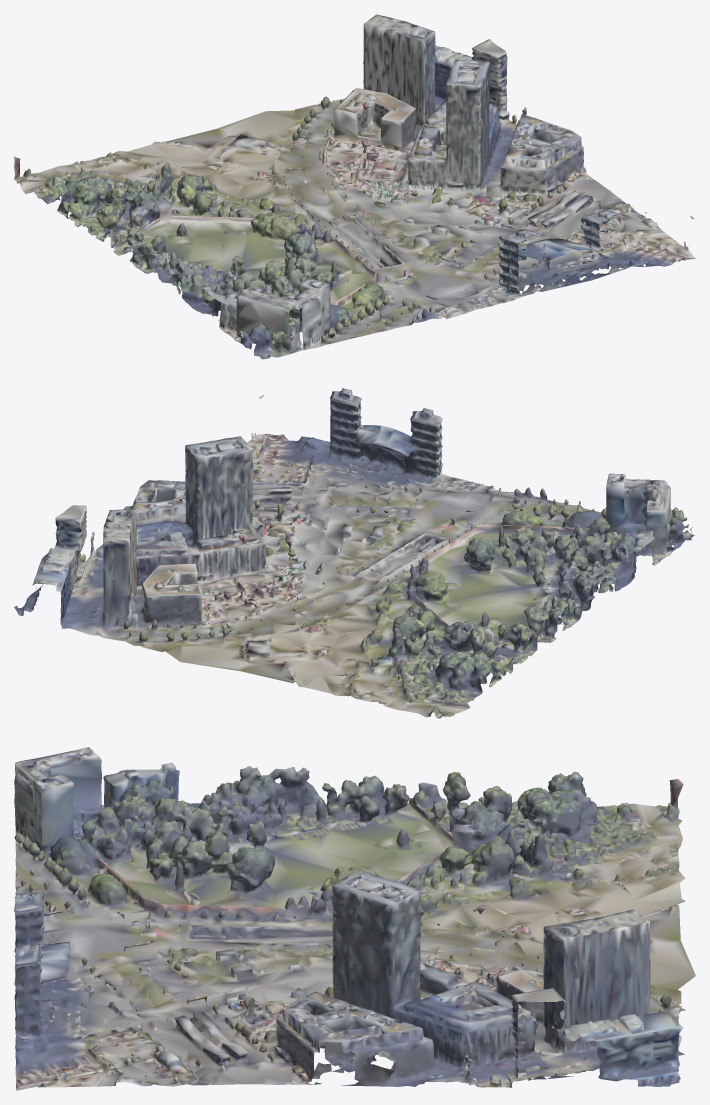
File: tile-3890_58207.glb
The picture shows the model from 3 angles, top to bottom: view 1: azimuth 30°, elevation 25°; view 2: azimuth 150°, elevation 25°; view 3: azimuth 270°, elevation 25°; orthographic projection. The views are drawn at different scales.
Visible parts, largest first — view 1: world; view 2: world; view 3: world.
Part boxes in pixels (x1,y1,x2,y2): world: [14, 14, 695, 359]; world: [14, 388, 694, 718]; world: [14, 747, 695, 1090].
Size of the model in its own units: 366 by 91.08 by 371.
